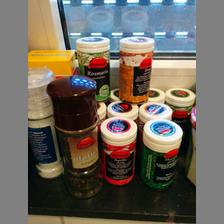Gewuerze: (46, 74, 102, 202), (26, 66, 61, 178), (140, 117, 182, 188), (100, 114, 136, 186), (117, 33, 149, 102), (76, 35, 108, 100)
